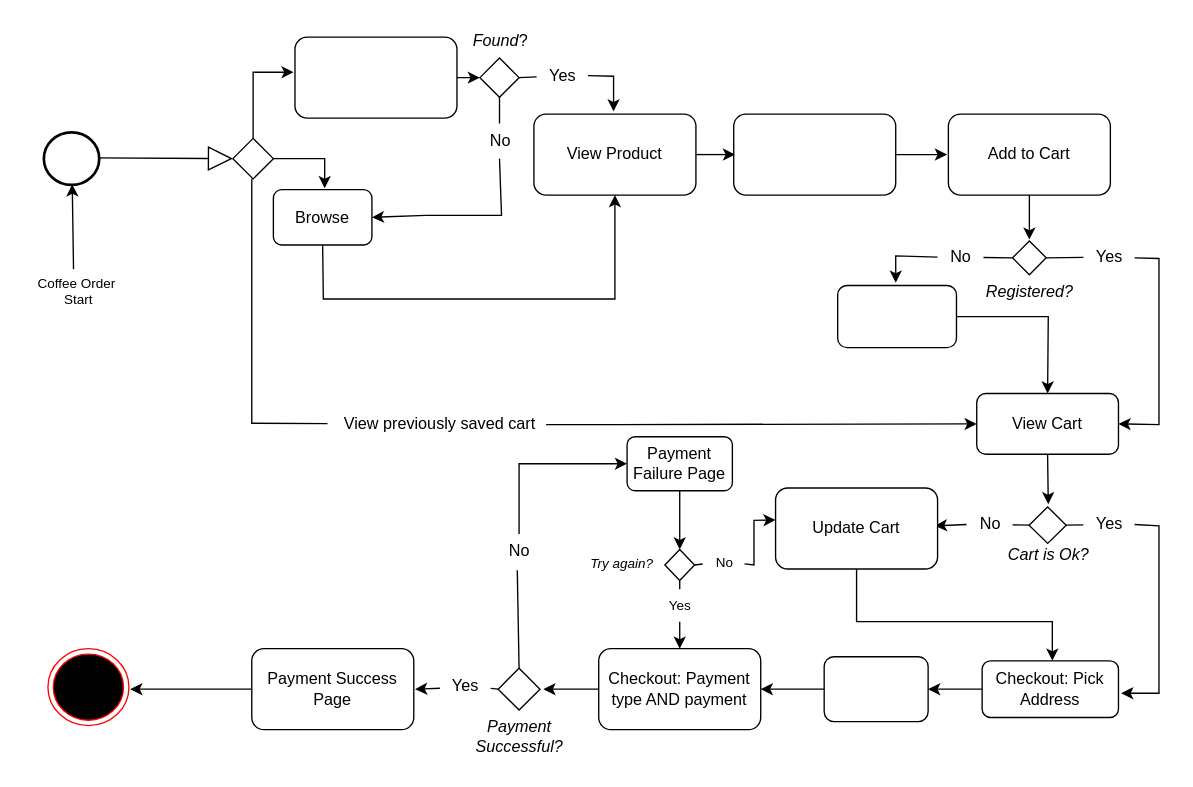
Some shapes in this 1193 by 787 pixel diagram are drawn without their labels. The shapes that lost their labels are listed below. From the top down, each one's centre as x and y in pixels, then its label:
At point (375, 77): "Search Product".
At point (814, 154): "Set up Product Parameters".
At point (896, 316): "User Registration".
At point (875, 688): "Checkout: Delivery Type?".
